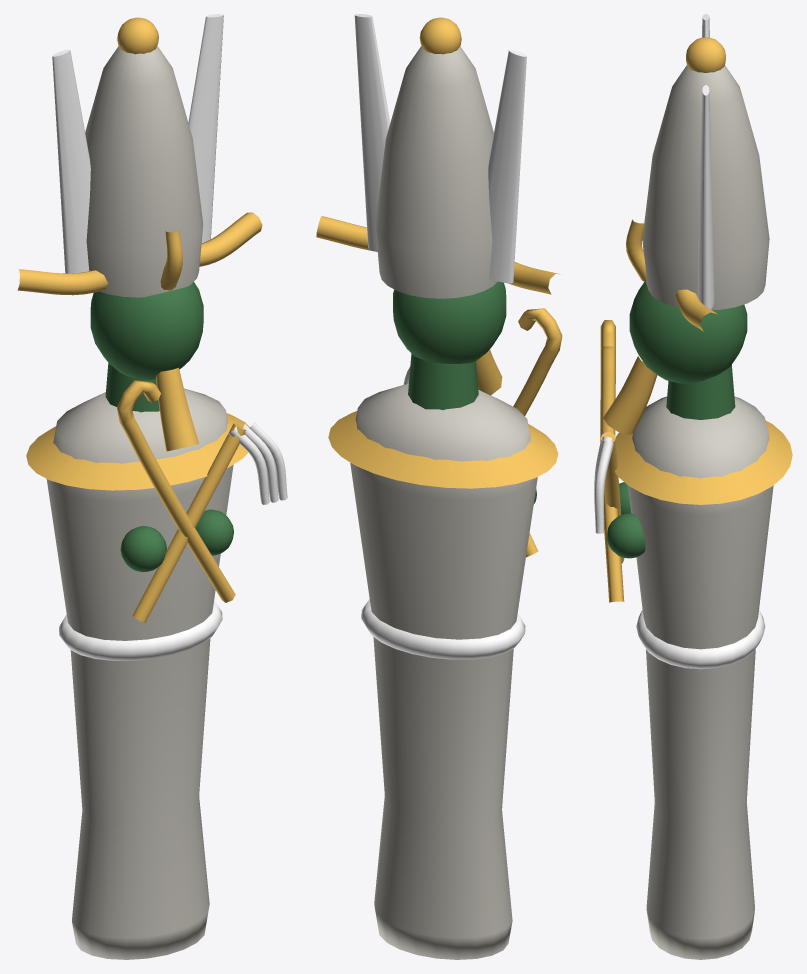
Rendered from god-osiris.glb.
3 renders of one model, left to right at view 1: azimuth 30°, elevation 25°; view 2: azimuth 150°, elevation 25°; view 3: azimuth 270°, elevation 25°, orthographic. The views are drawn at different scales.
Visible parts, largest first — view 1: figurka; view 2: figurka; view 3: figurka.
Boxes of the visible parts, x1,y1,x2,y2 form: figurka: (17,14,287,959); figurka: (316,14,562,959); figurka: (594,14,792,959).
Size of the model in its own units: 0.3261 by 1.17 by 0.2358.
